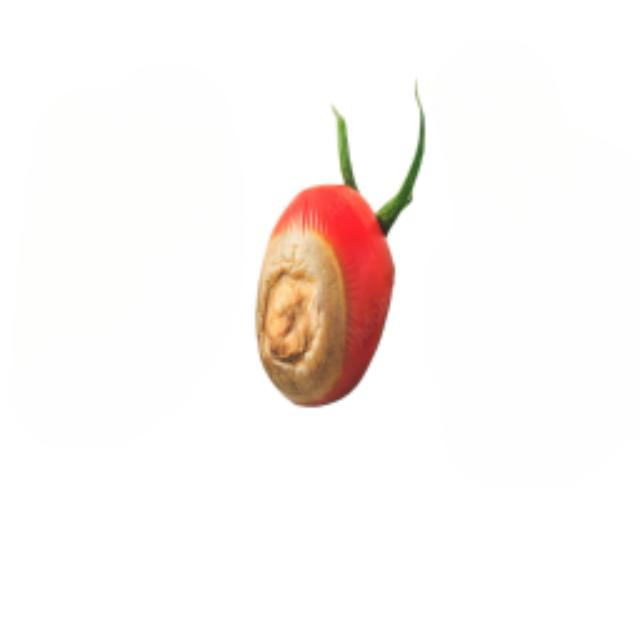defect: (252, 179, 396, 411)
